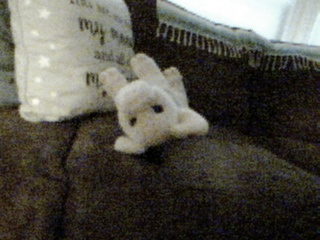piggy: (99, 51, 212, 156)
